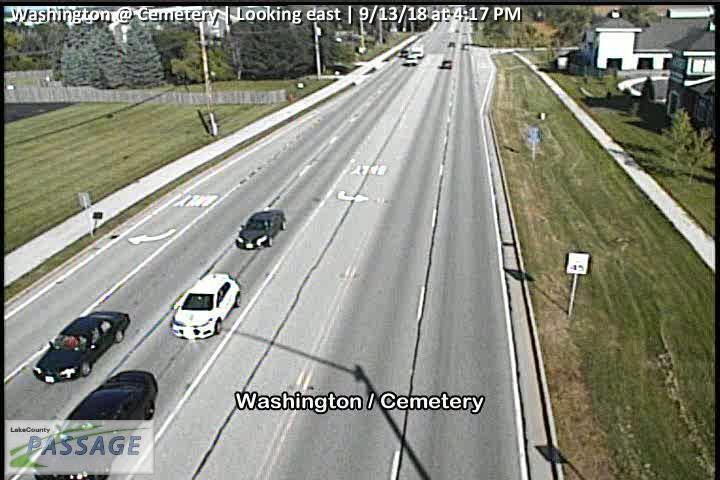Sedan: (34, 369, 159, 480), (31, 310, 131, 382), (171, 272, 242, 340), (235, 209, 287, 251)
